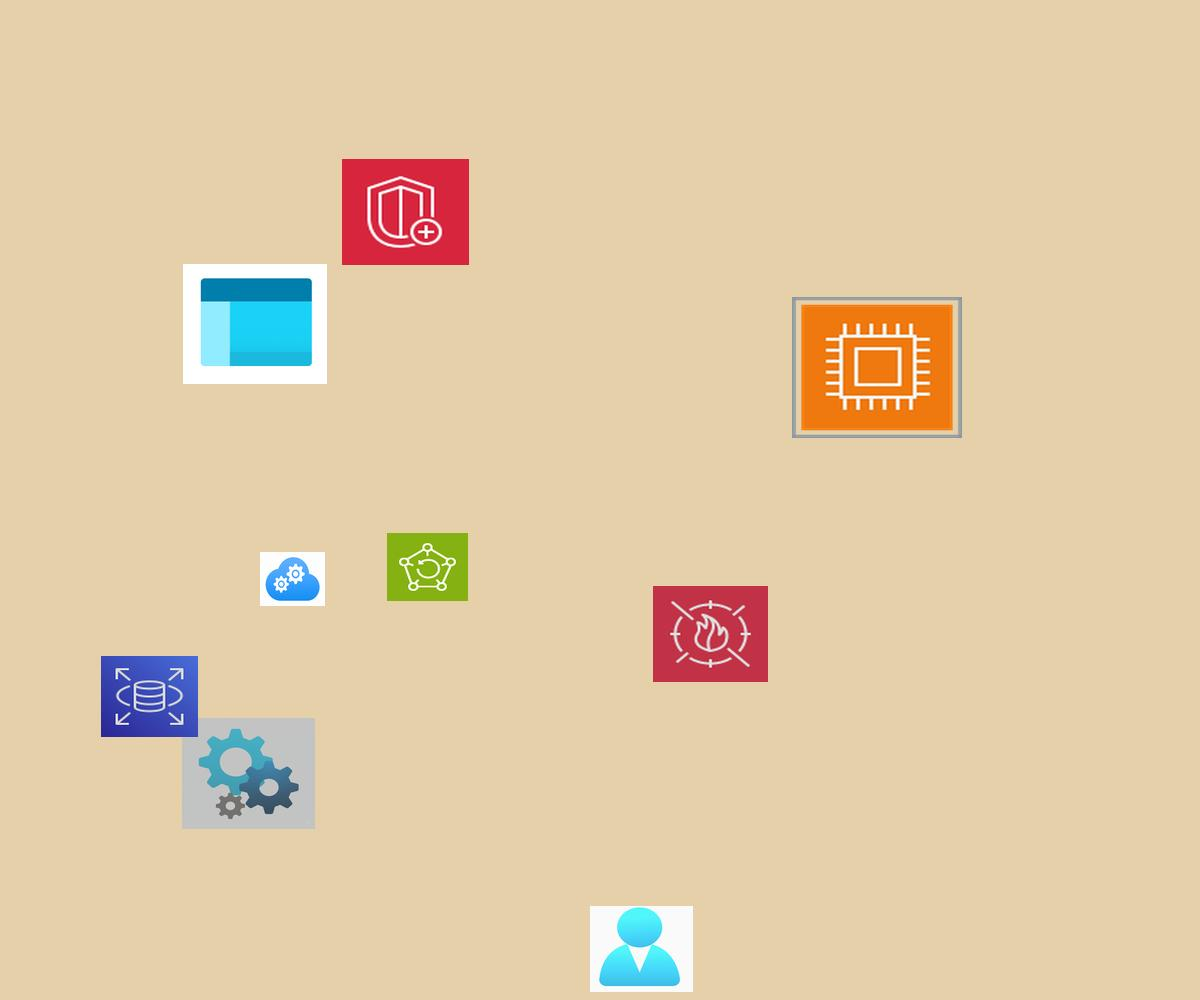AWS-Backup: (387, 533, 468, 601)
AWS-Category_Compute: (792, 297, 962, 438)
AWS-RDS: (101, 656, 198, 737)
AWS-Shield: (342, 159, 469, 265)
AWS-WAF: (653, 586, 768, 682)
Azure_api: (182, 718, 315, 829)
Azure_cloud_services: (260, 552, 325, 606)
Azure_management-portal: (183, 264, 327, 384)
Azure_users: (590, 906, 693, 992)
